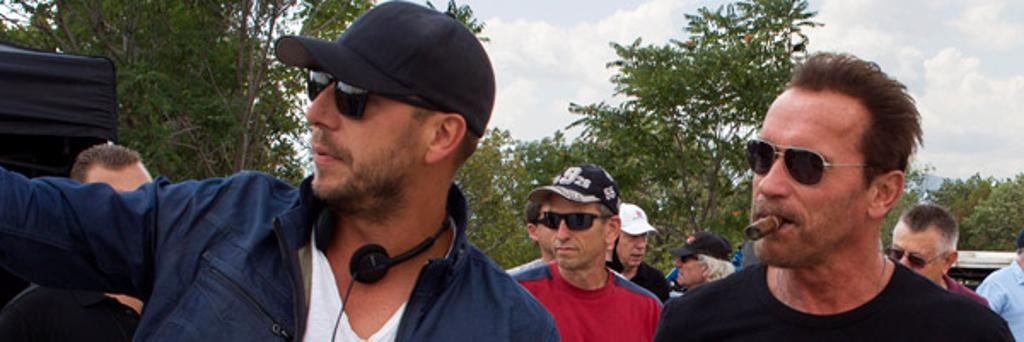face: (749, 98, 868, 266), (305, 80, 425, 200), (549, 198, 601, 268), (890, 226, 942, 291), (536, 202, 578, 254), (619, 220, 645, 266), (673, 254, 699, 285)
